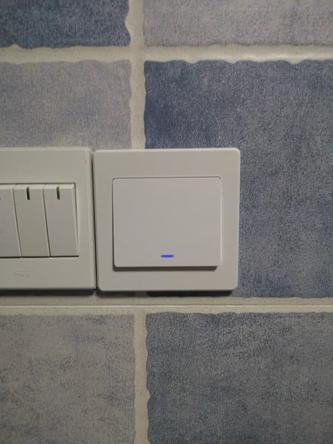switch: (110, 178, 224, 266), (52, 187, 81, 258), (15, 188, 46, 252), (1, 189, 14, 256)
